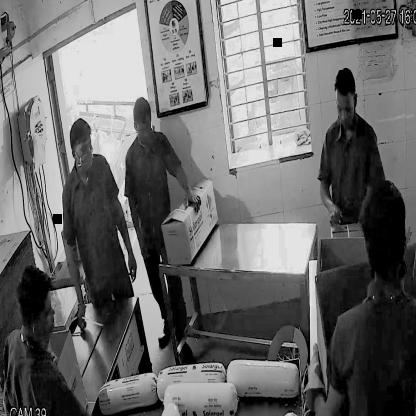no_goggles: (66, 136, 97, 162), (335, 97, 358, 120)
